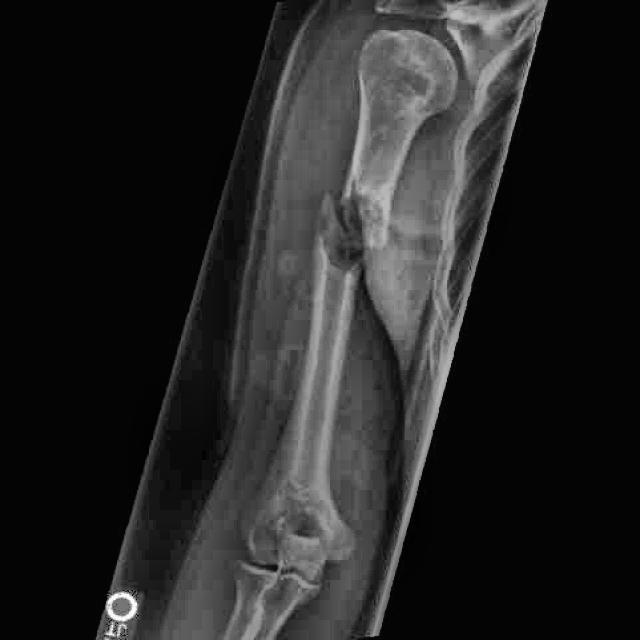humerus: (284, 162, 426, 331)
